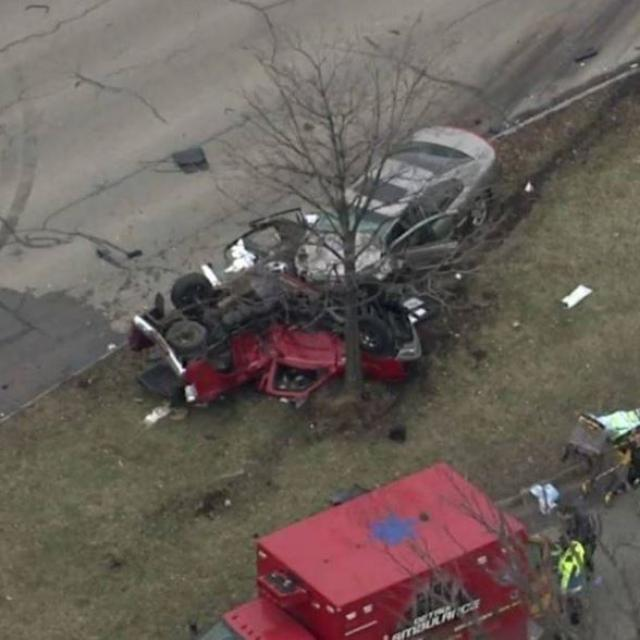traffic_incident: (149, 118, 493, 416)
